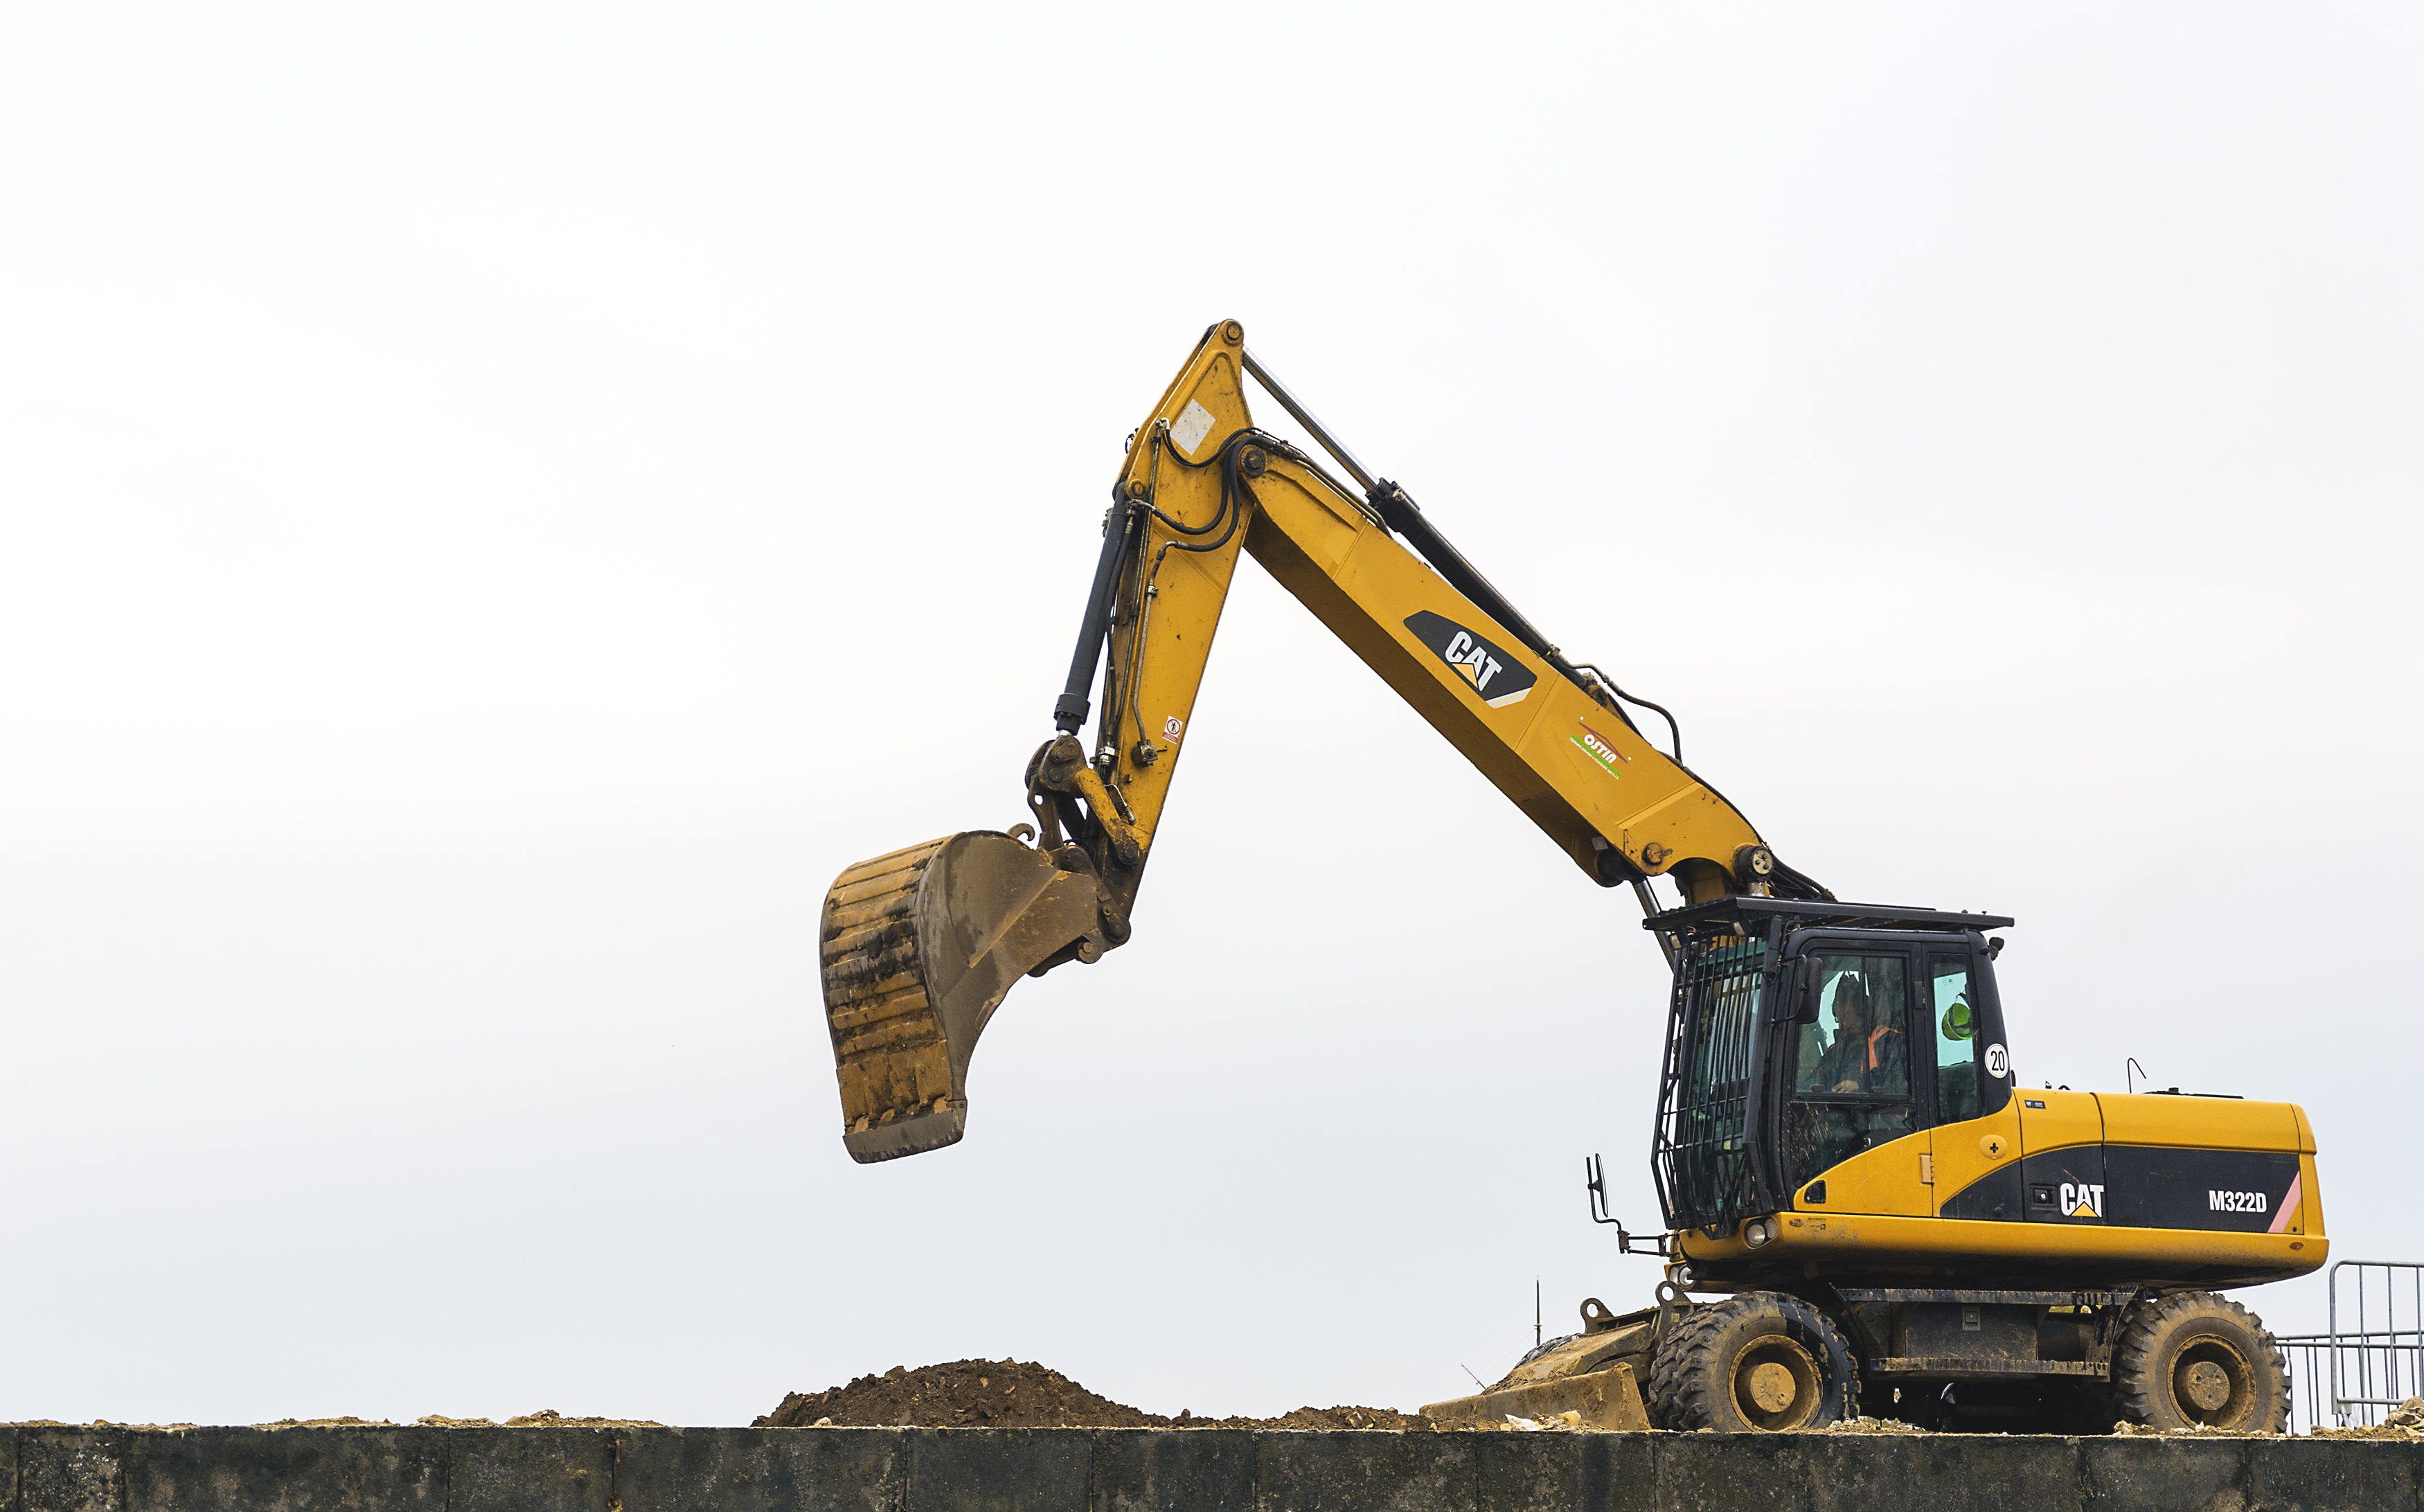excavator: (775, 291, 2337, 1451)
